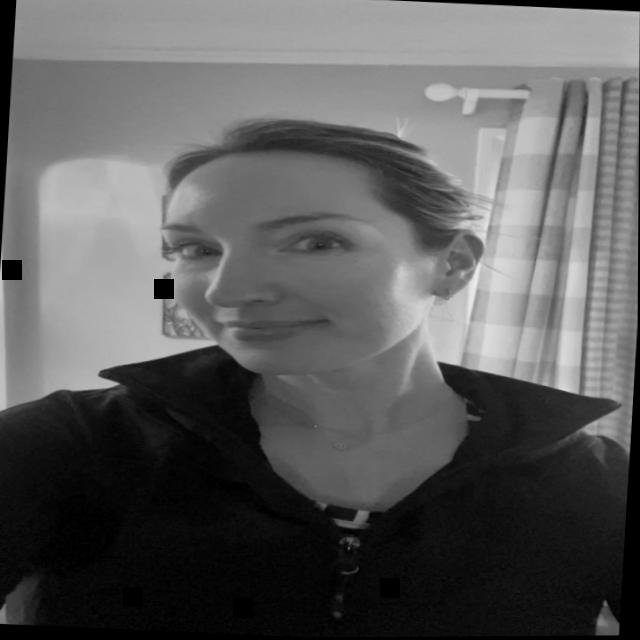NO-Mask: (146, 116, 460, 409)
